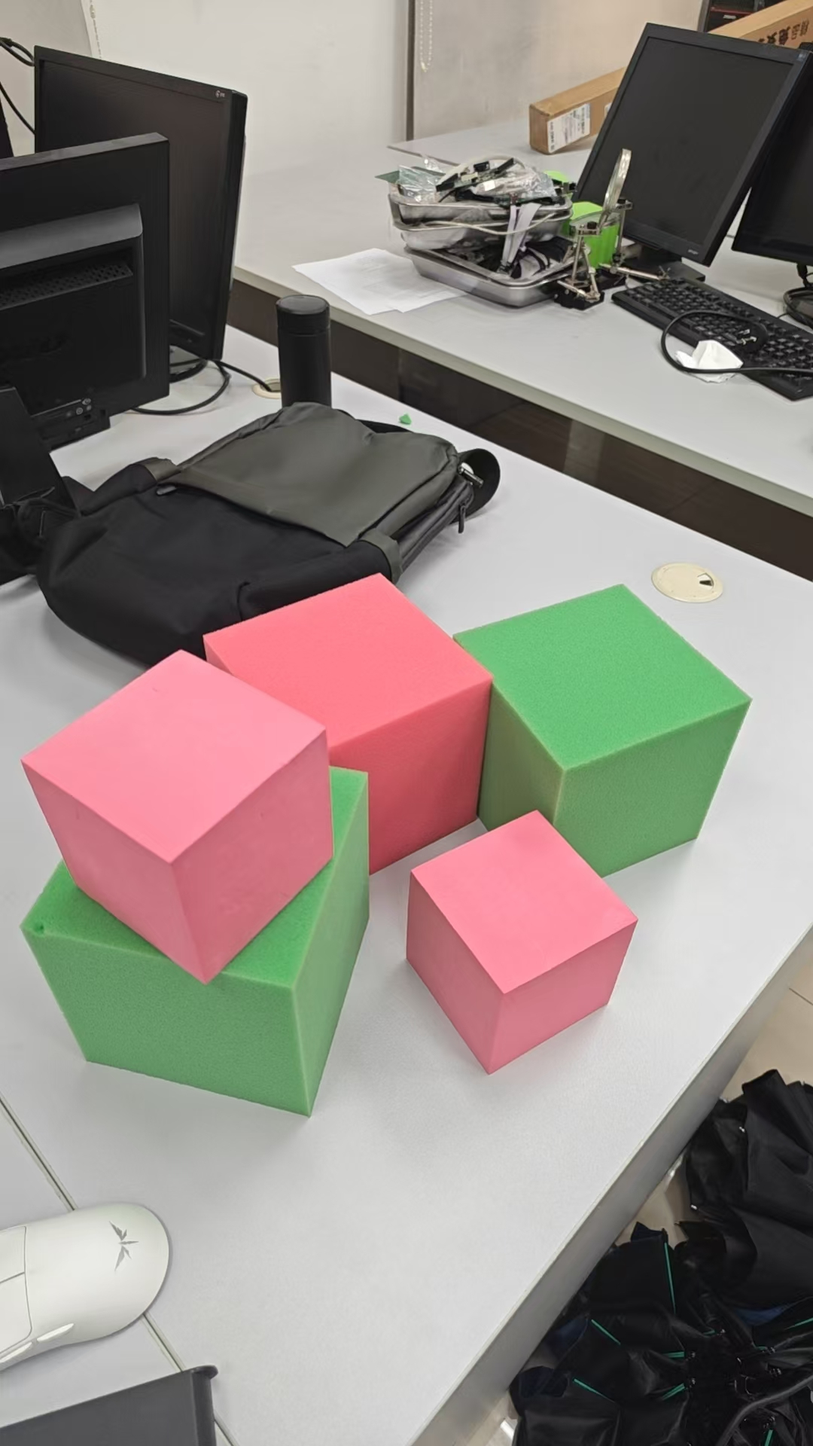green_large: (22, 759, 373, 1117), (450, 581, 751, 890)
